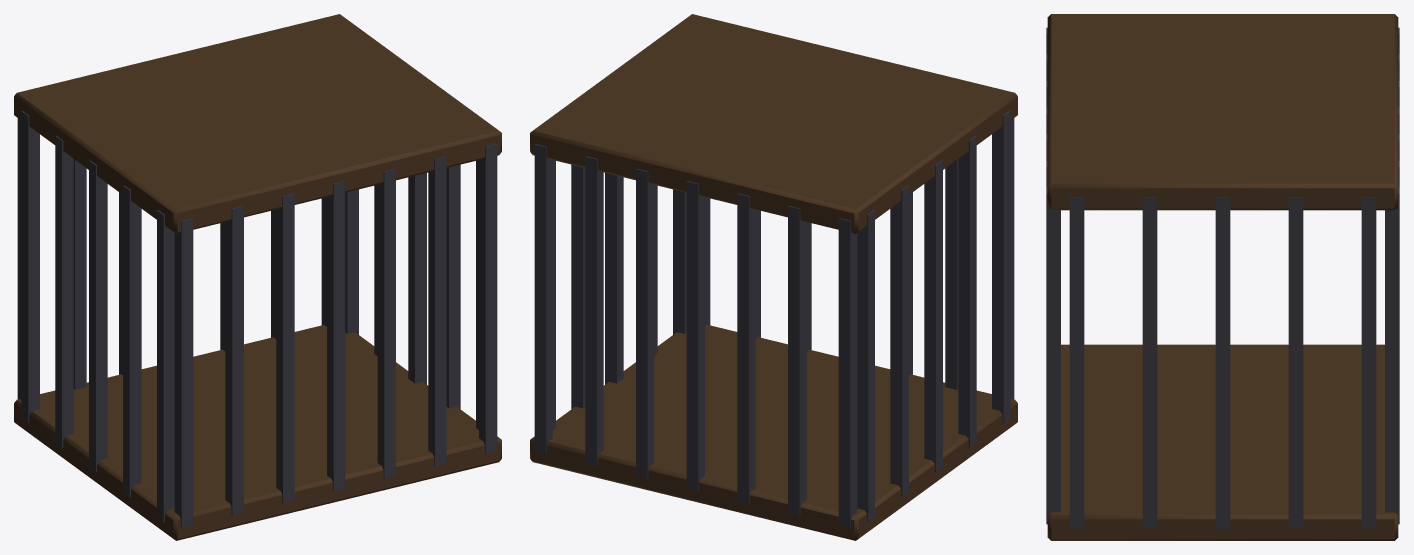
Rendered from cage.glb.
3 renders of one model, left to right at view 1: azimuth 30°, elevation 25°; view 2: azimuth 150°, elevation 25°; view 3: azimuth 270°, elevation 25°, orthographic. The views are drawn at different scales.
Parts seen in each view (by area): view 1: building; view 2: building; view 3: building.
Boxes of the visible parts, box(x1,y1,x2,y2) form: building: box(14, 14, 501, 540); building: box(530, 14, 1017, 540); building: box(1046, 14, 1399, 540).
Bounding box in the file's own units: 1.41 × 1.35 × 1.21.
